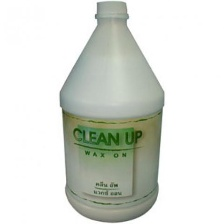insecticide: (57, 0, 166, 224)
